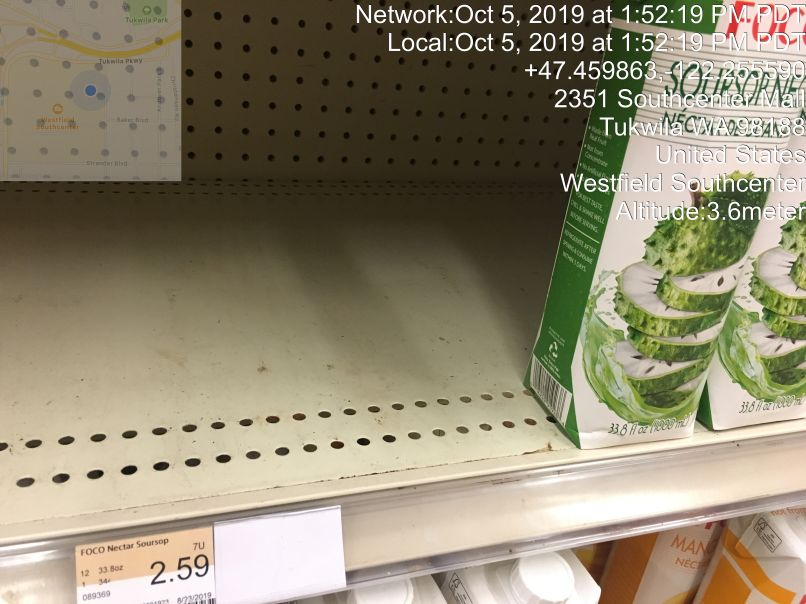Foco nectar soursop: (599, 3, 757, 451)
Label: (69, 537, 227, 604)
Location: (544, 81, 806, 199)
Time: (349, 1, 806, 58)
Void: (15, 7, 218, 491), (238, 8, 426, 483), (441, 7, 589, 461)
